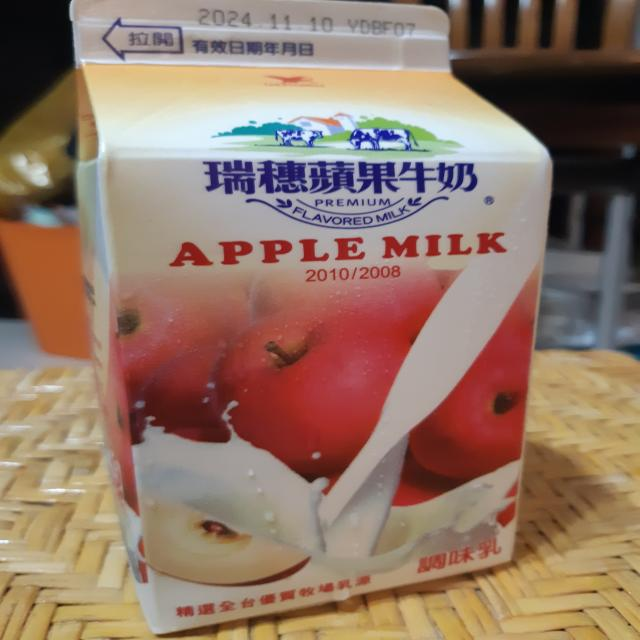RuiSui_AppleMilk: (67, 0, 566, 640)
